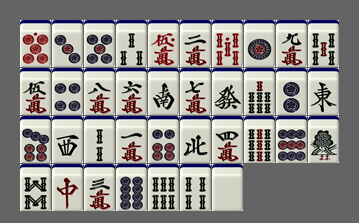0m: (148, 20, 179, 67)
0p: (20, 20, 51, 67)
0s: (212, 20, 243, 67)
1m: (116, 116, 147, 163)
1p: (244, 20, 275, 67)
1s: (308, 116, 339, 163)
1z: (308, 68, 339, 115)
2m: (180, 20, 211, 67)
2p: (276, 68, 307, 115)
2s: (84, 116, 115, 163)
2z: (148, 68, 179, 115)
3m: (84, 164, 115, 211)
3p: (52, 20, 83, 67)
3s: (116, 20, 147, 67)
3z: (52, 116, 83, 163)
4m: (212, 116, 243, 163)
4p: (52, 68, 83, 115)
4s: (180, 164, 211, 211)
4z: (180, 116, 211, 163)
5m: (20, 68, 51, 115)
5p: (84, 20, 115, 67)
5s: (308, 20, 339, 67)
5z: (212, 164, 243, 211)
6m: (116, 68, 147, 115)
6p: (148, 116, 179, 163)
6s: (148, 164, 179, 211)
6z: (212, 68, 243, 115)
7m: (180, 68, 211, 115)
7p: (20, 116, 51, 163)
7s: (244, 68, 275, 115)
7z: (52, 164, 83, 211)
8m: (84, 68, 115, 115)
8p: (116, 164, 147, 211)
8s: (20, 164, 51, 211)
9m: (276, 20, 307, 67)
9p: (276, 116, 307, 163)
9s: (244, 116, 275, 163)
